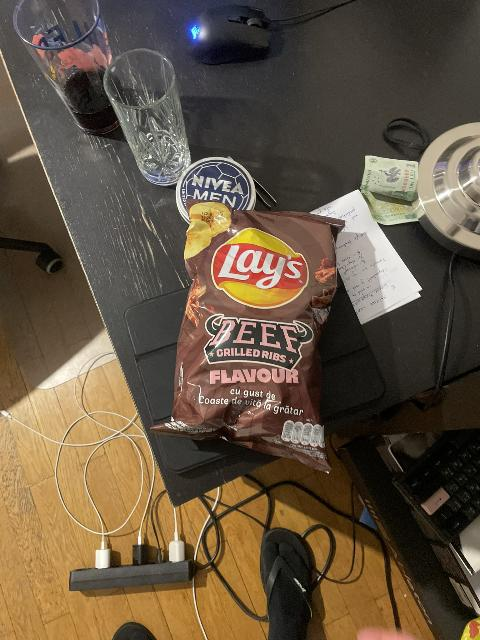Lays Beef Grilled Ribs 125g: (154, 201, 338, 473)
